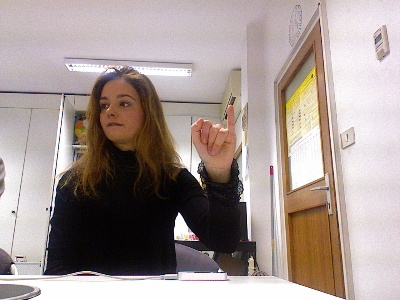小指: (188, 103, 237, 173)
